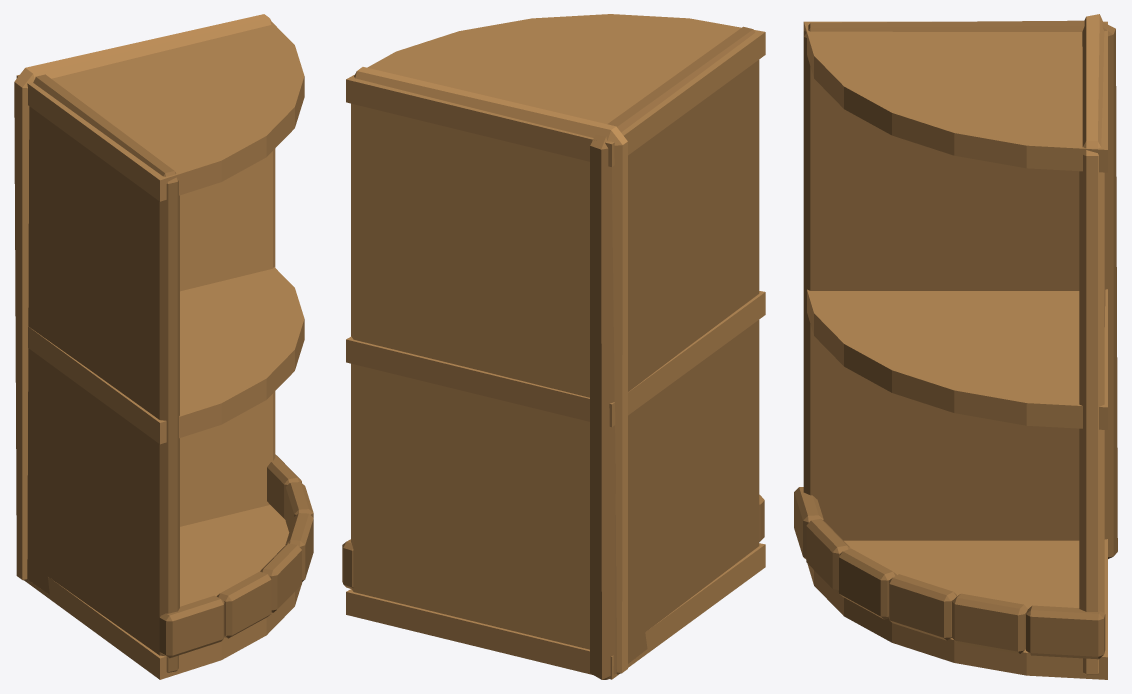
The model's file is corner_shelf.glb.
3 renders of one model, left to right at view 1: azimuth 30°, elevation 25°; view 2: azimuth 150°, elevation 25°; view 3: azimuth 270°, elevation 25°, orthographic. The views are drawn at different scales.
Visible parts, largest first — view 1: corner_shelf; view 2: corner_shelf; view 3: corner_shelf.
Boxes of the visible parts, x1,y1,x2,y2 form: corner_shelf: [14, 14, 313, 679]; corner_shelf: [342, 14, 765, 679]; corner_shelf: [794, 14, 1117, 679].
Size of the model in its own units: 0.3847 by 0.7183 by 0.3876.
